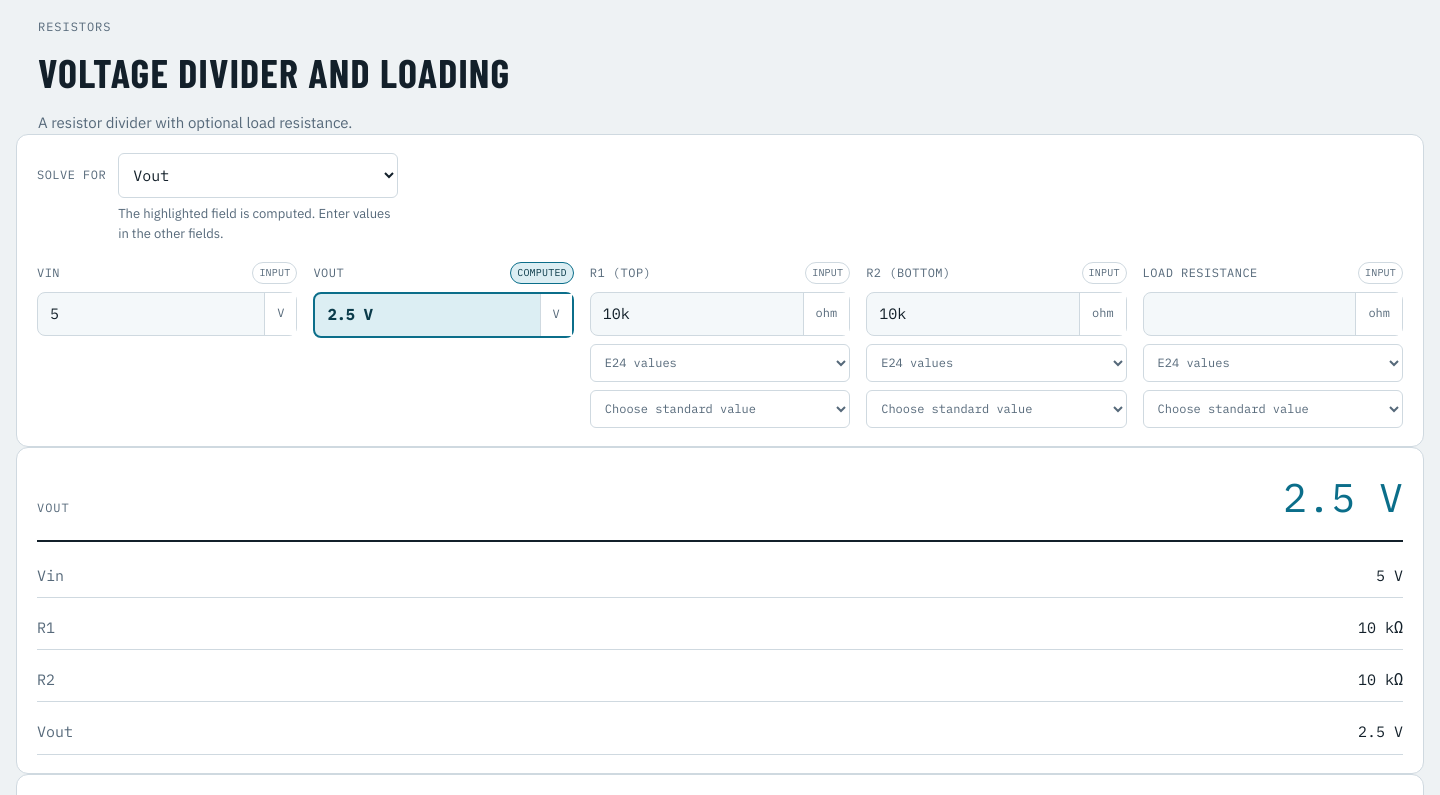
Test: DividerView › warns when RL is set below 10x Rsource
Type "1000" into the field labelled "Load resistance" at (1250, 314), box [1144,293,1355,335]
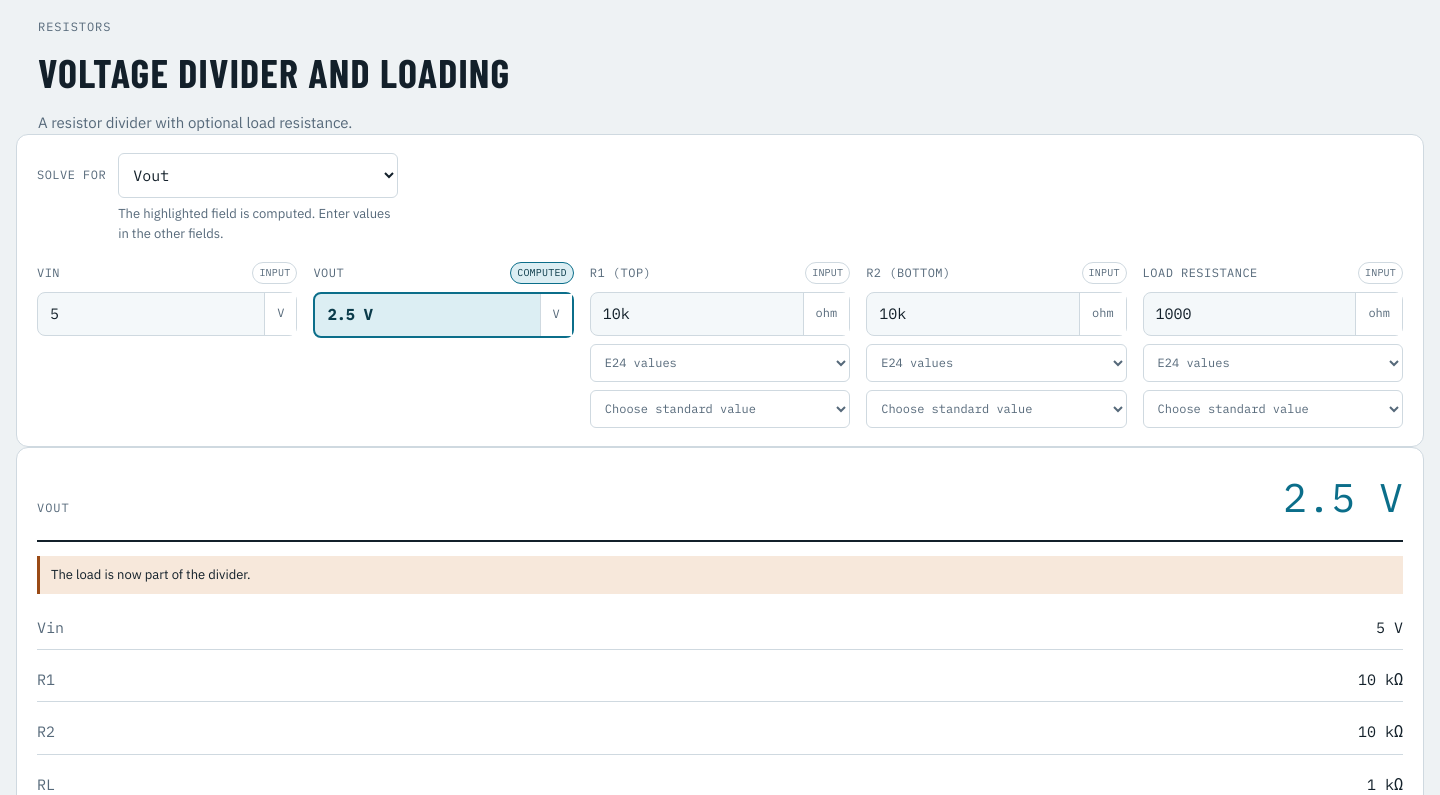
Result: the text "The load is now part of the divider." is shown at [37,556,1403,594]
